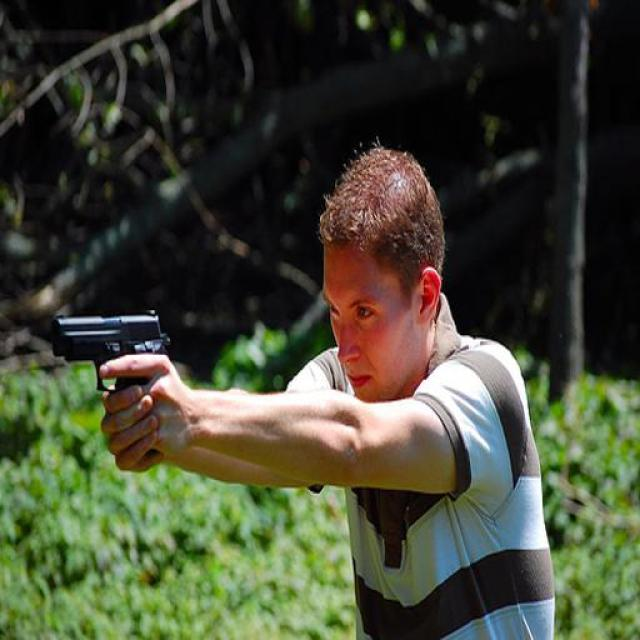pistol: (50, 308, 174, 453)
